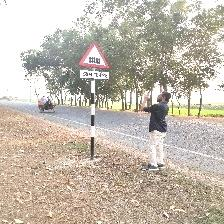Rail-crossing: (78, 41, 110, 80)
